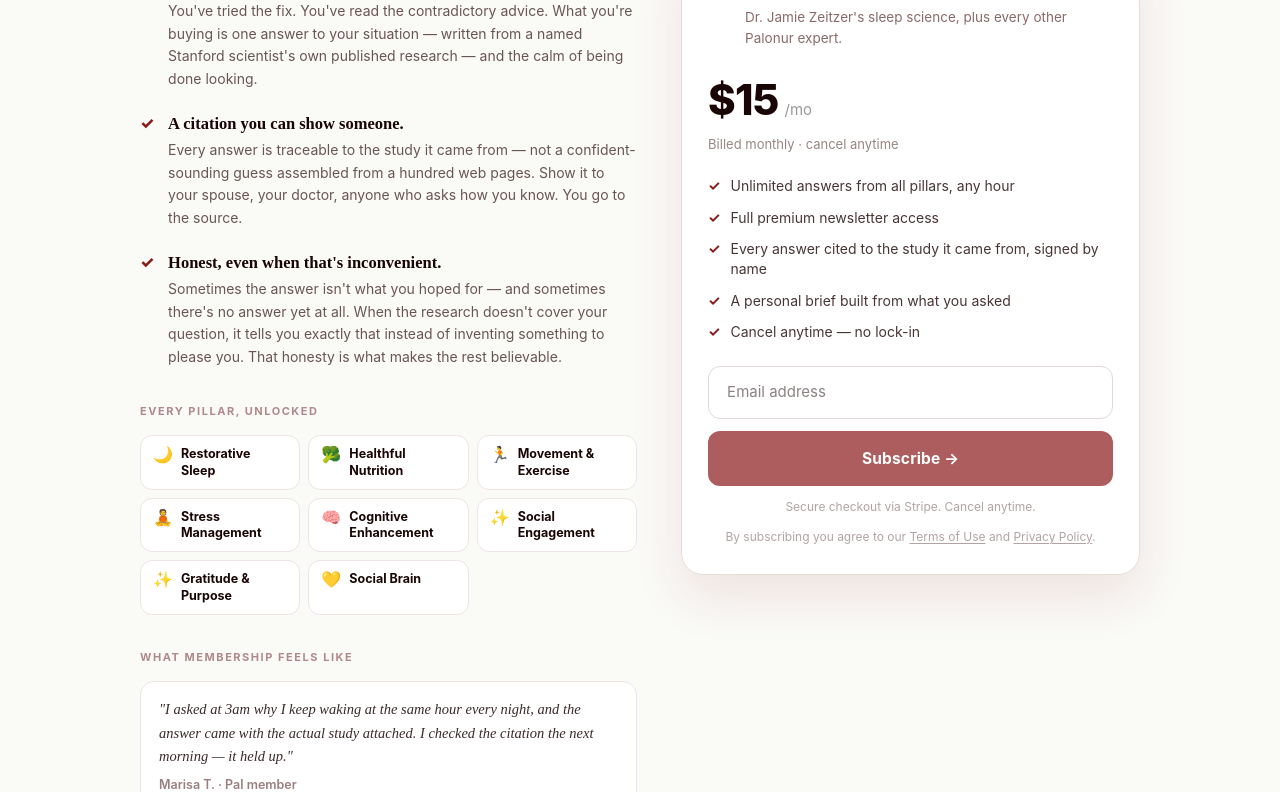
Scenario: /subscribe checkout submit › failure without a server message: renders the generic inline error
This screenshot has width=1280, height=792.
(page scrolled)
Type "buyer@example.com" into the field with placeholder "Email address". click: (911, 392)
box: [708,366,1113,419]
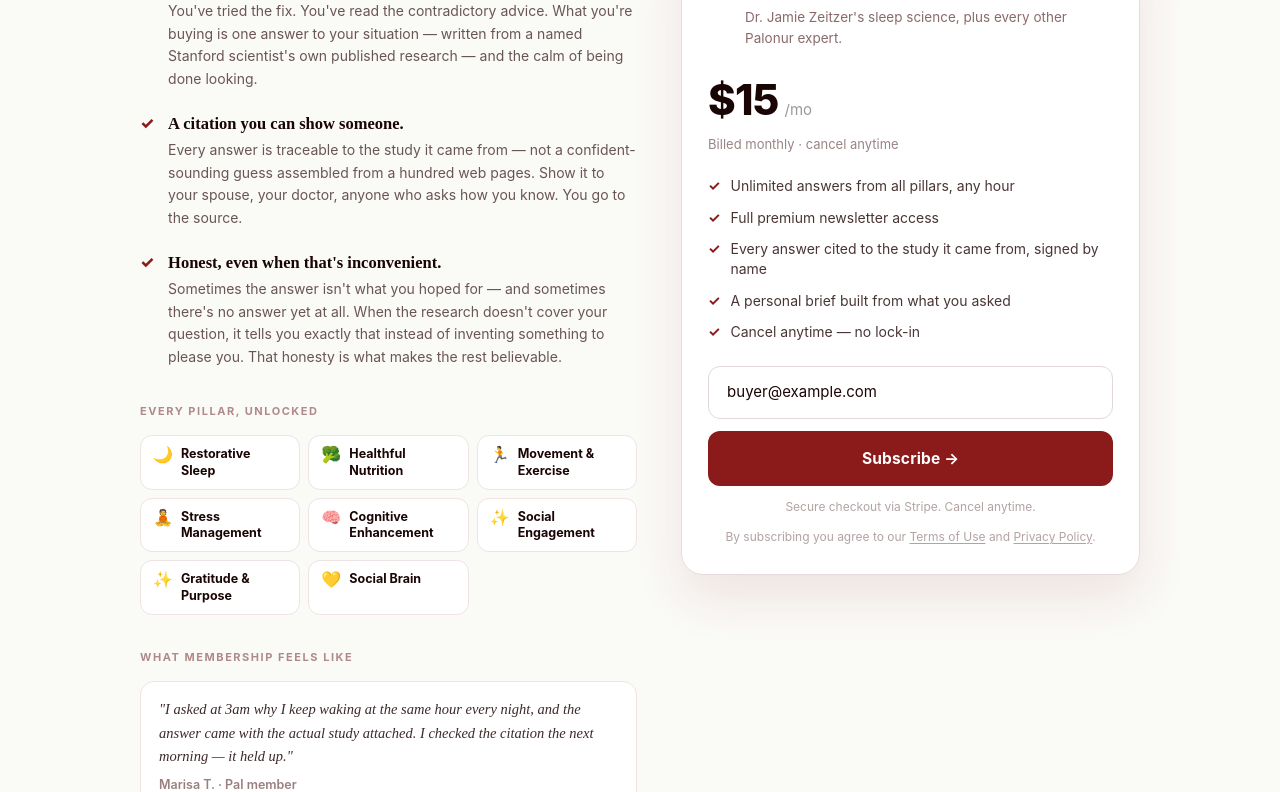
Click the button "Subscribe →". click: (911, 458)
box: [708,431,1113,486]
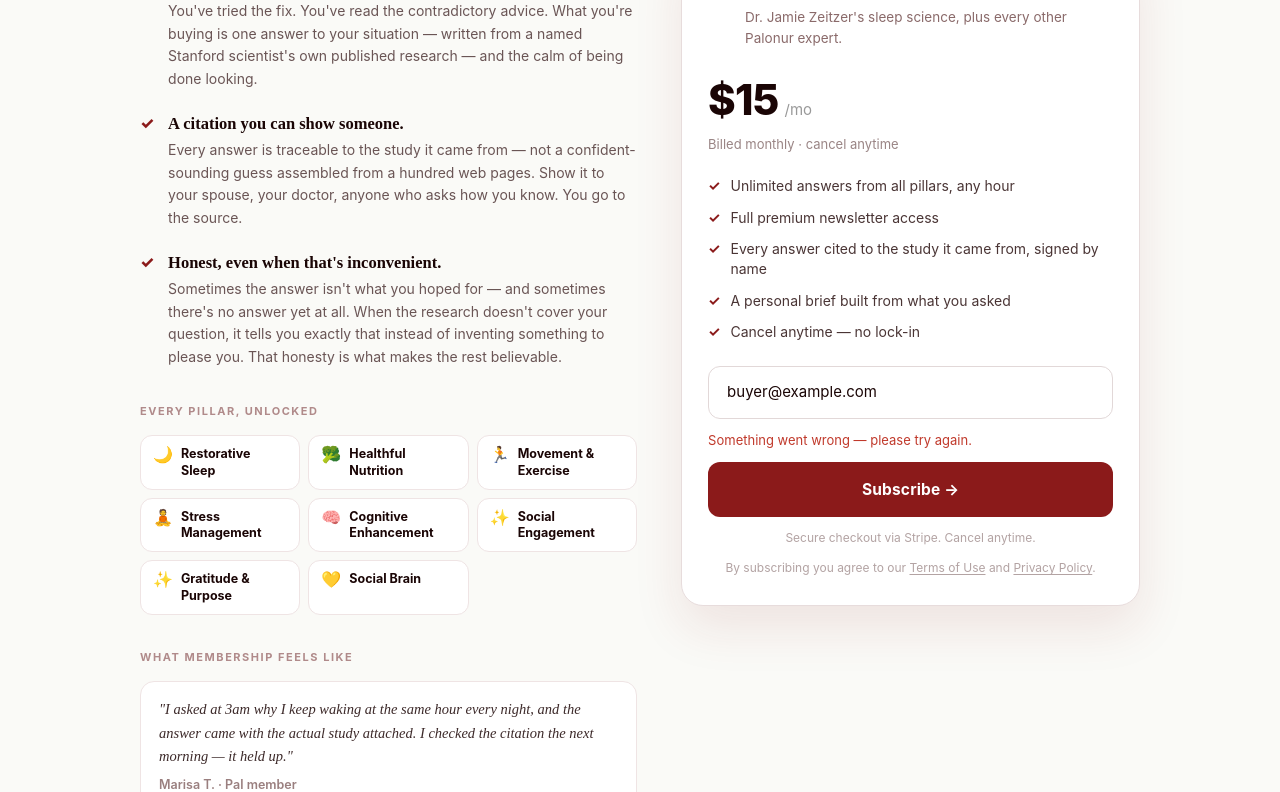
Check: the text "Something went wrong — please try again." is shown, box [708,432,972,448]
